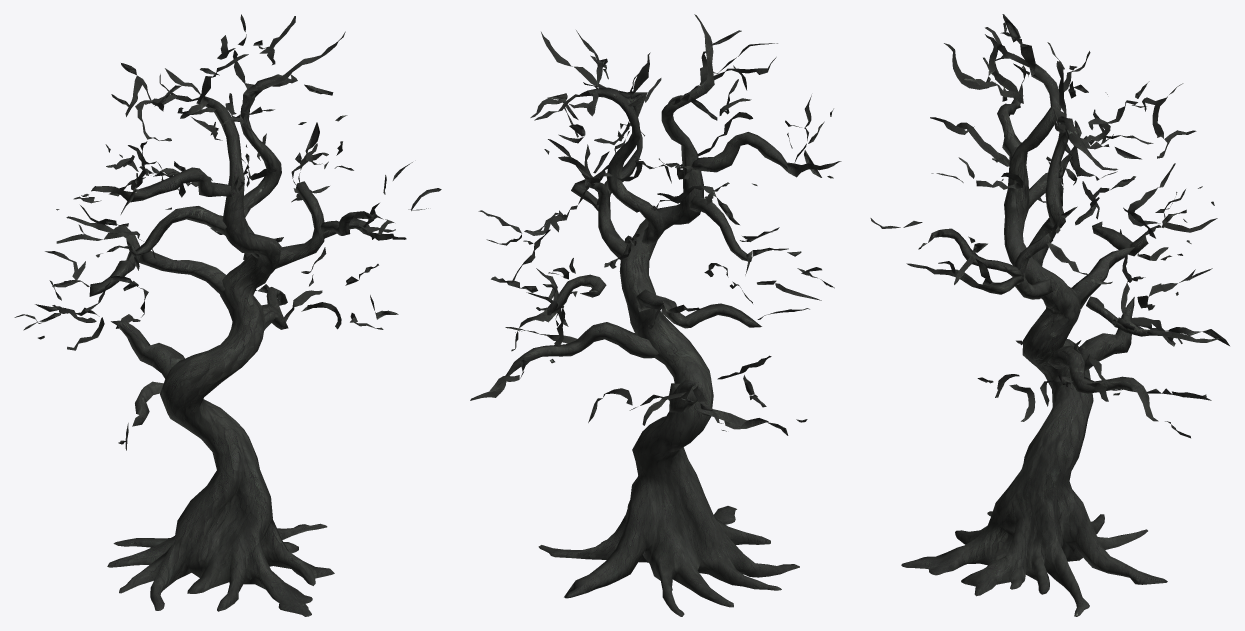
File: moon-dead-tree.glb
3 views of the same model, side by side, from view 1: azimuth 30°, elevation 25°; view 2: azimuth 150°, elevation 25°; view 3: azimuth 270°, elevation 25° (orthographic).
Bounding box in the file's own units: 0.6595 × 1 × 0.6193.
1 material, 1 textured.
